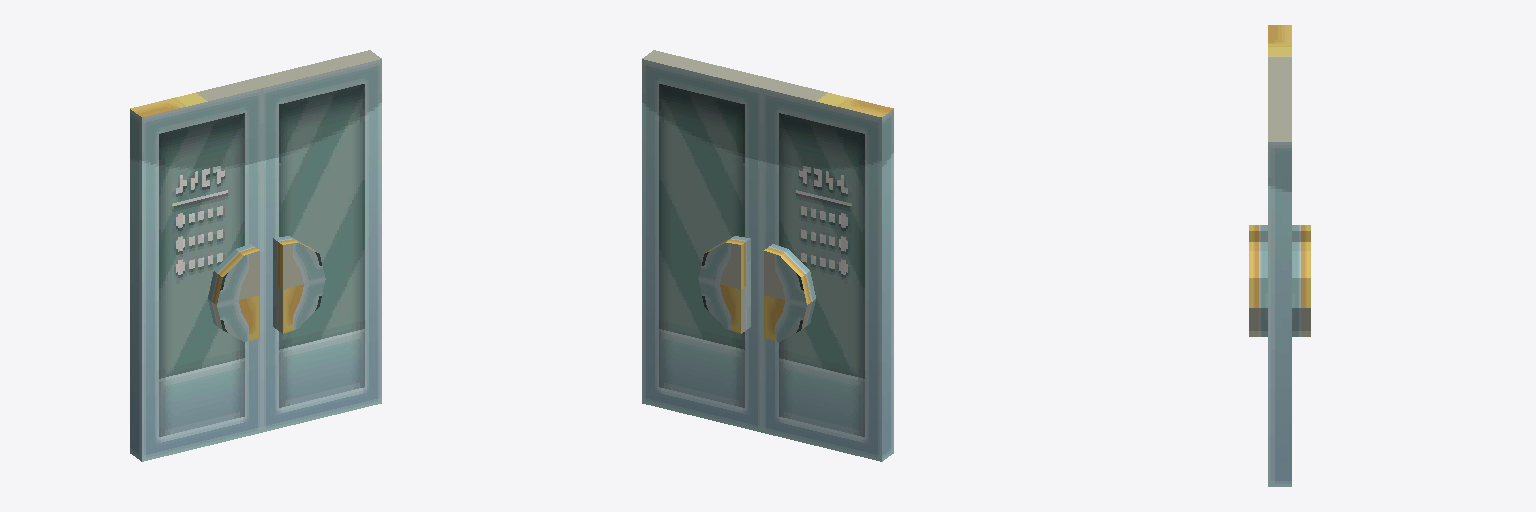
3 views of the same model, side by side, from view 1: azimuth 30°, elevation 25°; view 2: azimuth 150°, elevation 25°; view 3: azimuth 270°, elevation 25° (orthographic).
Visible parts, largest first — view 1: vsn_mesh_0_door_L_mesh_0_door_L, vsn_mesh_1_door_R_mesh_1_door_R; view 2: vsn_mesh_0_door_L_mesh_0_door_L, vsn_mesh_1_door_R_mesh_1_door_R; view 3: vsn_mesh_1_door_R_mesh_1_door_R, vsn_mesh_0_door_L_mesh_0_door_L.
Part boxes in pixels (x1,y1,x2,y2): vsn_mesh_0_door_L_mesh_0_door_L: (130,79,261,461); vsn_mesh_1_door_R_mesh_1_door_R: (250,50,381,432); vsn_mesh_0_door_L_mesh_0_door_L: (762,79,893,461); vsn_mesh_1_door_R_mesh_1_door_R: (642,50,773,432); vsn_mesh_1_door_R_mesh_1_door_R: (1249,84,1310,486); vsn_mesh_0_door_L_mesh_0_door_L: (1249,25,1310,241).
Bounding box in the file's own units: 0.4525 × 0.62 × 0.1.
Materials: 1 (1 with a texture image).